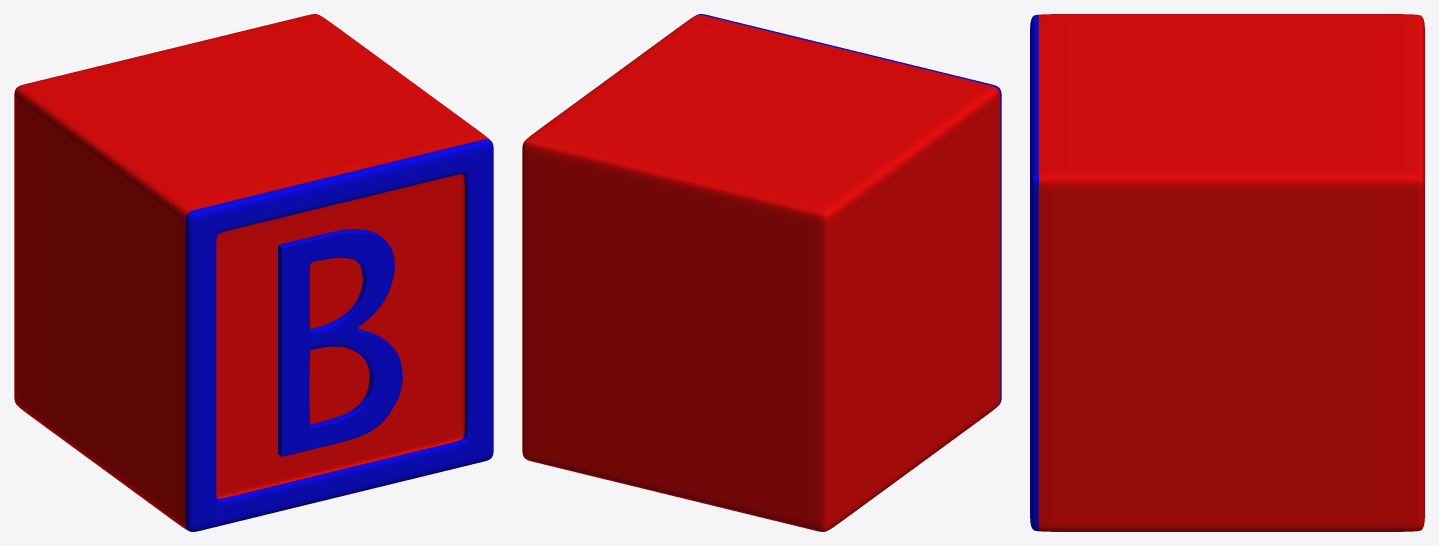
The model's file is Letter_Cubes_B_High.fbx.
3 renders of one model, left to right at view 1: azimuth 30°, elevation 25°; view 2: azimuth 150°, elevation 25°; view 3: azimuth 270°, elevation 25°, orthographic. The views are drawn at different scales.
Visible parts, largest first — view 1: Cube_high, B_high; view 2: Cube_high; view 3: Cube_high.
Part boxes in pixels (x1,y1,x2,y2): Cube_high: (14, 14, 493, 531); B_high: (278, 229, 402, 456); Cube_high: (522, 14, 1001, 531); Cube_high: (1030, 14, 1424, 531).
Size of the model in its own units: 80 by 80 by 80.
